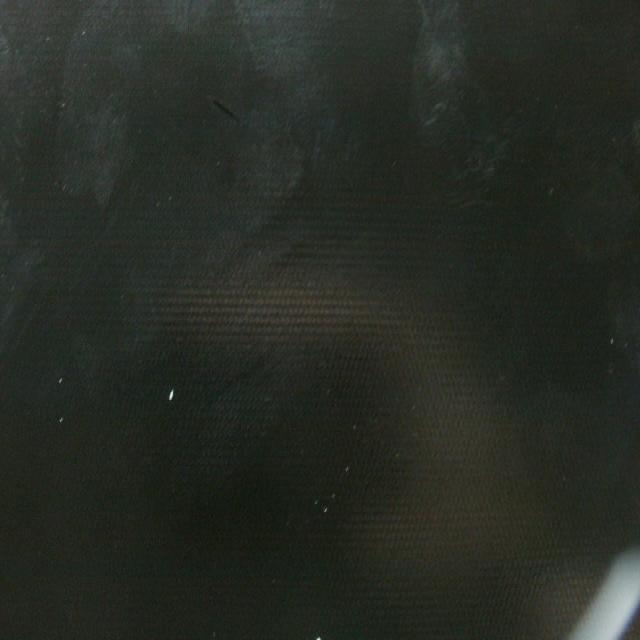scratch: (205, 90, 247, 130)
